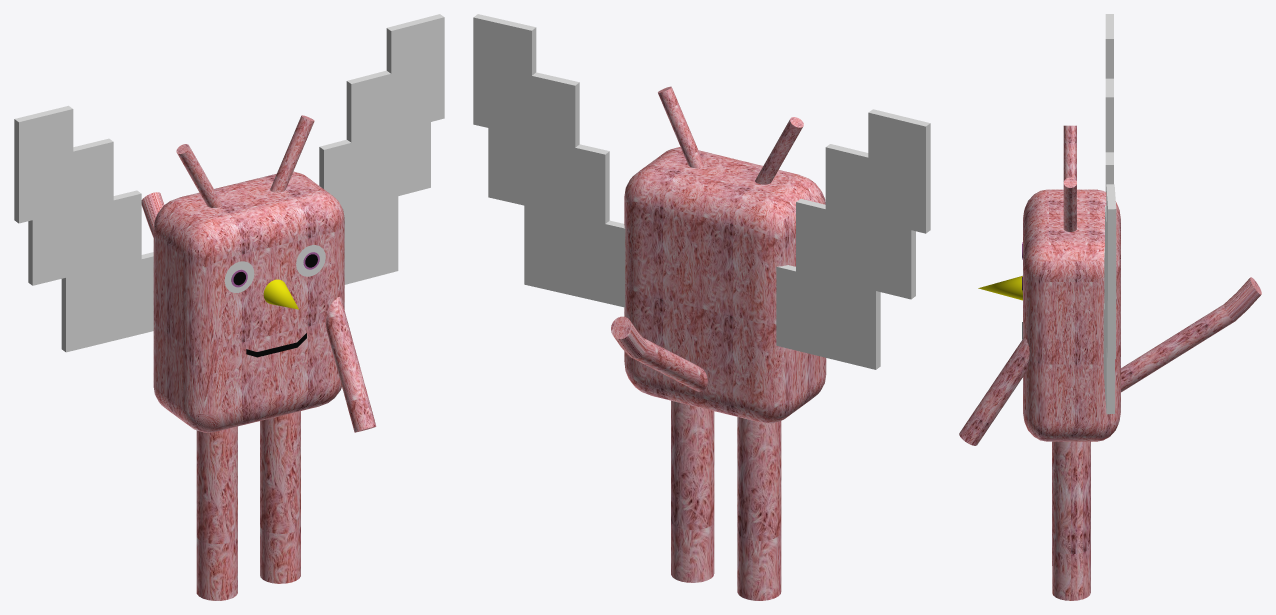
Rendered from Character.fbx.
3 views of the same model, side by side, from view 1: azimuth 30°, elevation 25°; view 2: azimuth 150°, elevation 25°; view 3: azimuth 270°, elevation 25° (orthographic). The views are drawn at different scales.
Parts seen in each view (by area): view 1: pCube1, pCube3, pasted__pCube3, pCylinder2, pasted__pCylinder2, pCylinder5, pasted__pCylinder3, pCylinder3, pCone1; view 2: pCube1, pasted__pCube3, pCube3, pCylinder2, pasted__pCylinder2, pCylinder4, pasted__pCylinder3, pCylinder3; view 3: pCube1, pasted__pCylinder2, pCylinder4, pasted__pCube3, pCylinder5, pCube3, pCylinder3, pasted__pCylinder3, pCone1.
Part boxes in pixels (left/top/right/bottom): pCube1: left=153, top=171, right=344, bottom=432; pCube3: left=14, top=105, right=153, bottom=352; pasted__pCube3: left=319, top=14, right=444, bottom=284; pCylinder2: left=196, top=426, right=237, bottom=600; pasted__pCylinder2: left=260, top=411, right=300, bottom=583; pCylinder5: left=326, top=297, right=376, bottom=432; pasted__pCylinder3: left=270, top=115, right=314, bottom=192; pCylinder3: left=176, top=144, right=222, bottom=207; pCone1: left=263, top=279, right=298, bottom=309; pCube1: left=624, top=147, right=826, bottom=423; pasted__pCube3: left=473, top=14, right=625, bottom=307; pCube3: left=776, top=109, right=930, bottom=369; pCylinder2: left=737, top=417, right=781, bottom=600; pasted__pCylinder2: left=671, top=400, right=714, bottom=582; pCylinder4: left=611, top=316, right=707, bottom=391; pasted__pCylinder3: left=658, top=86, right=704, bottom=168; pCylinder3: left=755, top=117, right=803, bottom=184; pCube1: left=1023, top=189, right=1120, bottom=441; pasted__pCylinder2: left=1052, top=441, right=1090, bottom=600; pCylinder4: left=1121, top=277, right=1261, bottom=392; pasted__pCube3: left=1103, top=184, right=1116, bottom=414; pCylinder5: left=959, top=337, right=1029, bottom=445; pCube3: left=1105, top=14, right=1113, bottom=191; pCylinder3: left=1063, top=125, right=1076, bottom=181; pasted__pCylinder3: left=1063, top=177, right=1076, bottom=231; pCone1: left=978, top=276, right=1022, bottom=300.
Bounding box in the file's own units: 9.37 × 10.49 × 6.14.
Materials: 14 (5 with a texture image).
